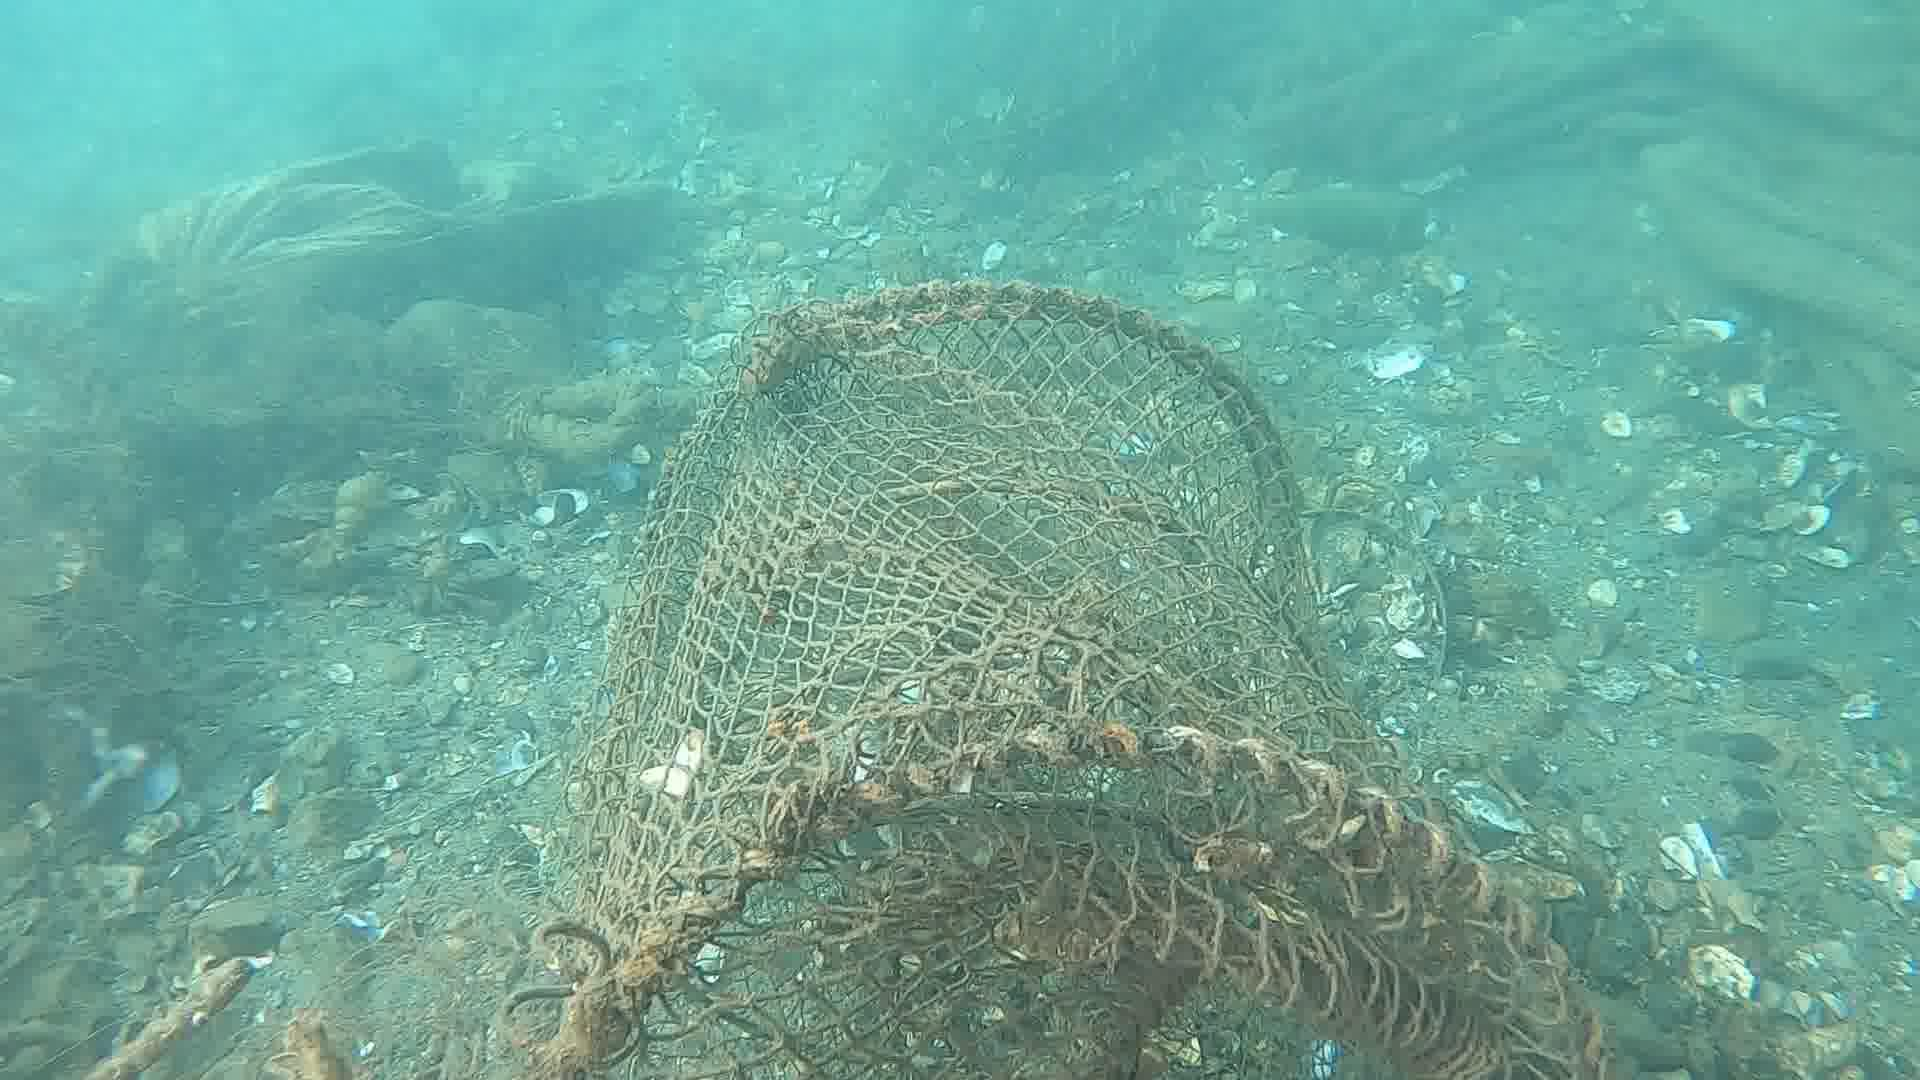spring fish trap: (531, 290, 1611, 1080)
